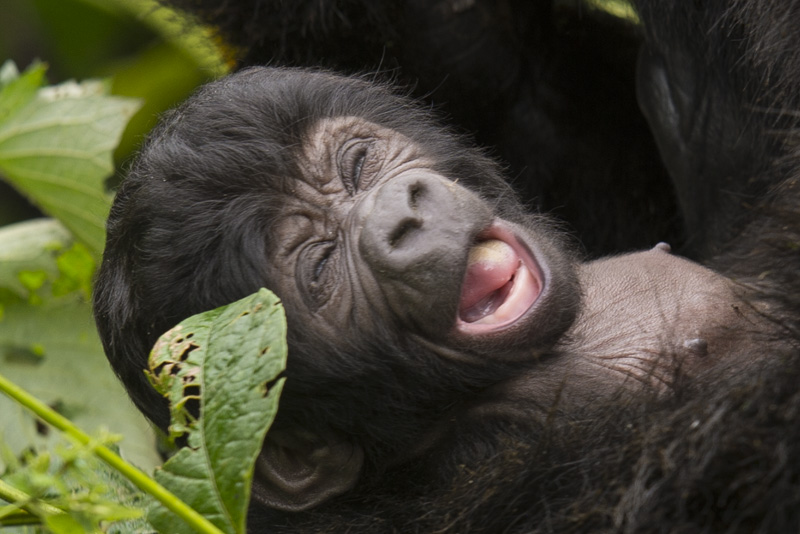Goriila: (71, 53, 768, 534)
